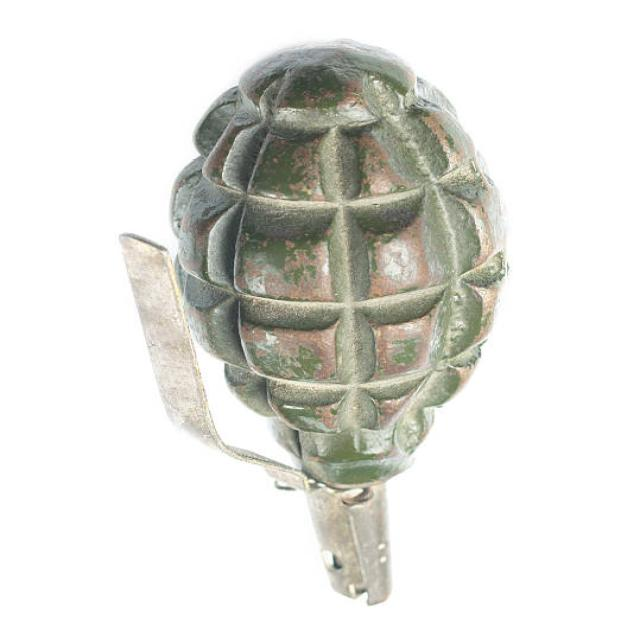grenade: (110, 39, 516, 614)
